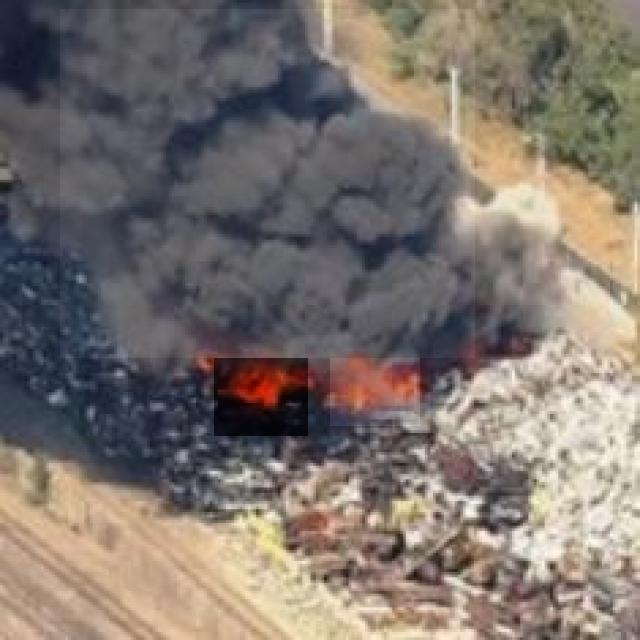Fire: (214, 346, 308, 436), (330, 356, 420, 426)
Smoke: (60, 9, 475, 358)
